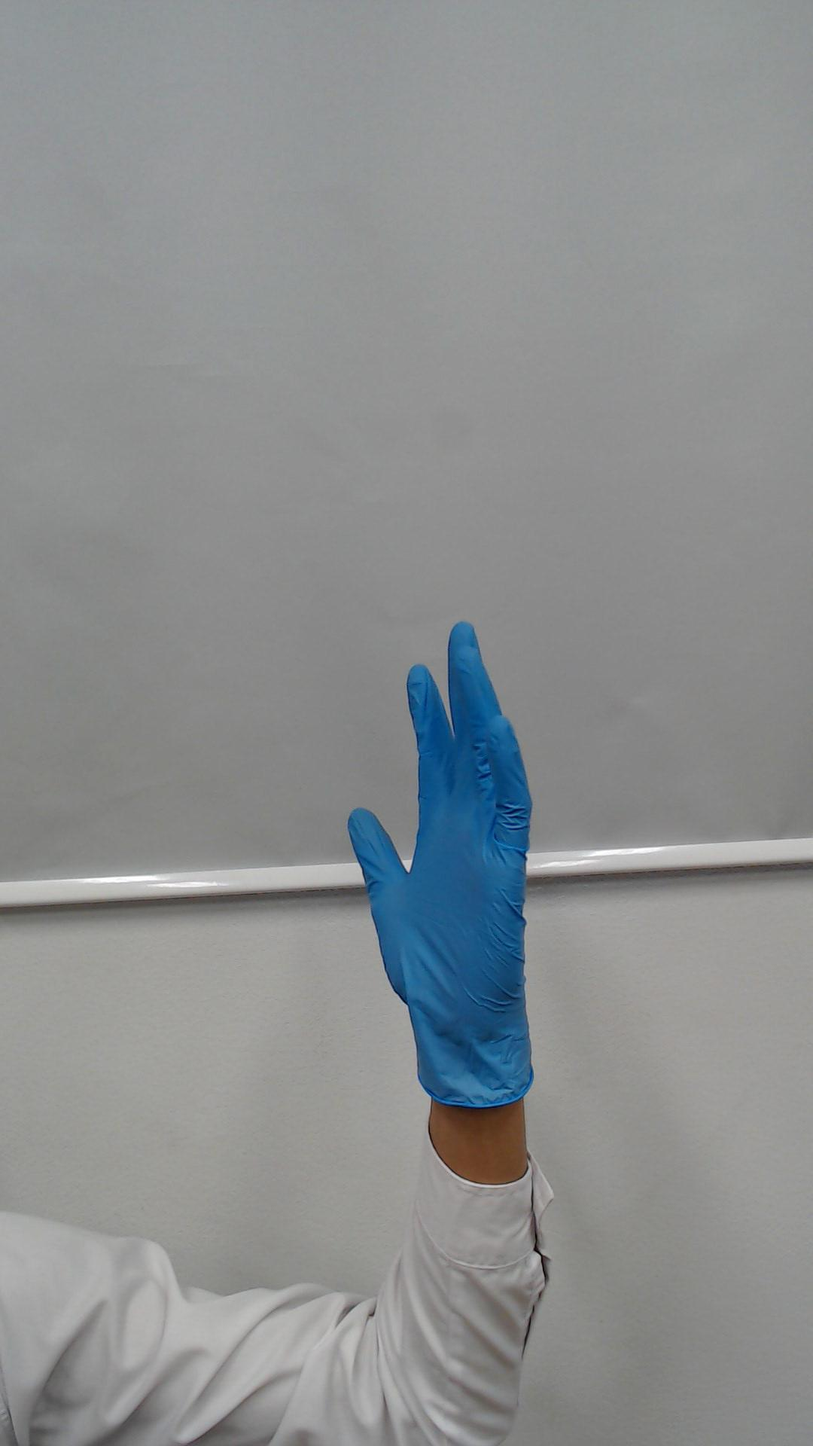gloves: (327, 608, 554, 1005)
